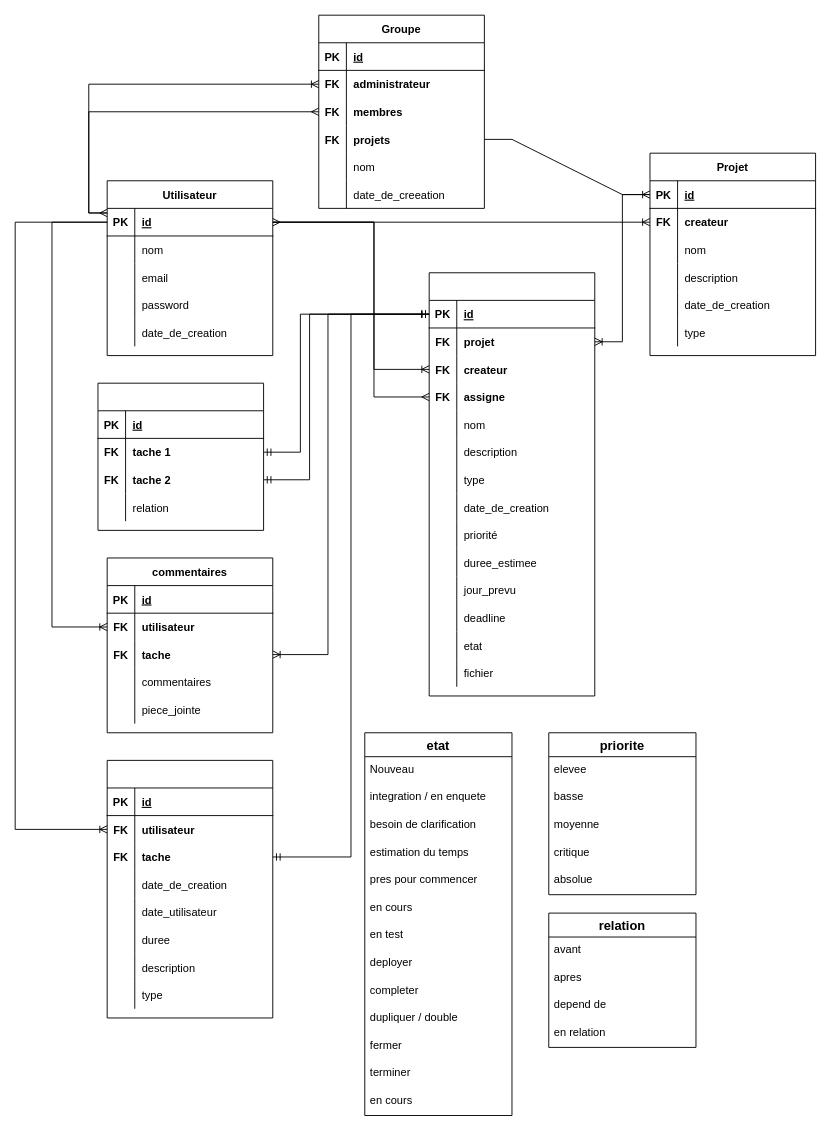
This 831x1131 diagram has some shape labels left out. Here are the shapes that lost their labels. From the top down, the box of each, then its label:
(97, 382, 264, 530): Relation_taches
(428, 272, 595, 696): Taches
(106, 759, 273, 1018): Rapports
